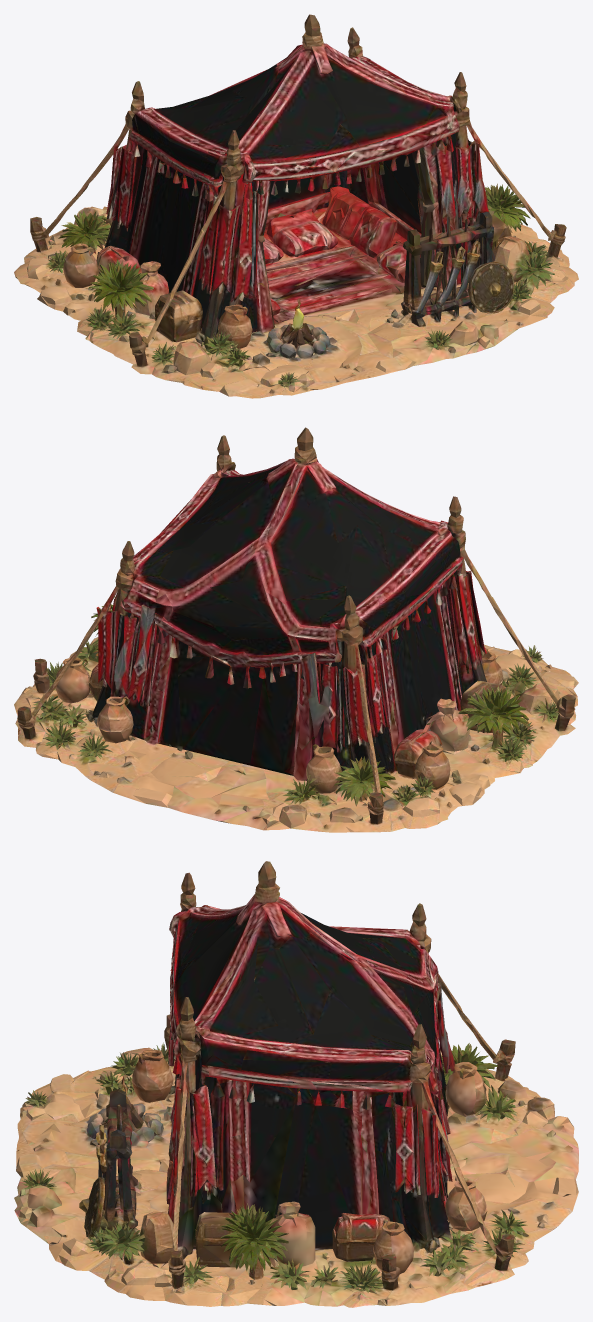
File: barracks.glb
3 renders of one model, top to bottom at view 1: azimuth 30°, elevation 25°; view 2: azimuth 150°, elevation 25°; view 3: azimuth 270°, elevation 25°, orthographic. The views are drawn at different scales.
Visible parts, largest first — view 1: barracks; view 2: barracks; view 3: barracks.
Part boxes in pixels (x1,y1,x2,y2): barracks: [14, 14, 578, 398]; barracks: [14, 427, 578, 832]; barracks: [14, 861, 578, 1307].
Size of the model in its own units: 1.9 by 1.1 by 1.78.
1 material, 1 textured.
